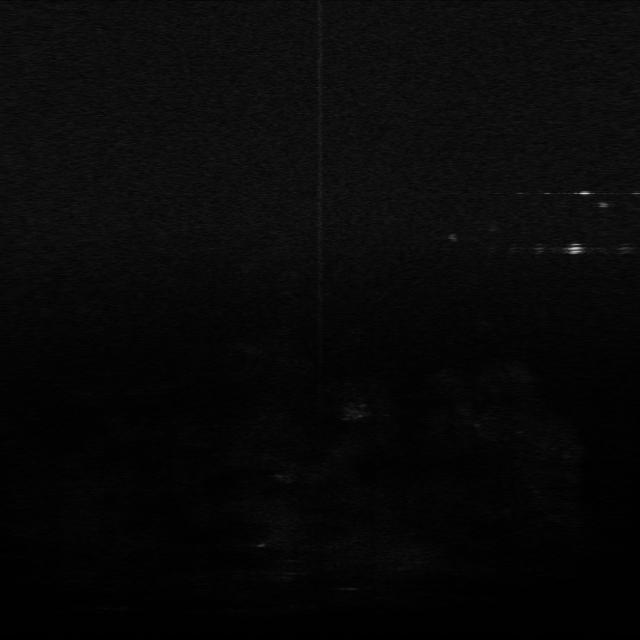rov: (562, 238, 588, 260)
